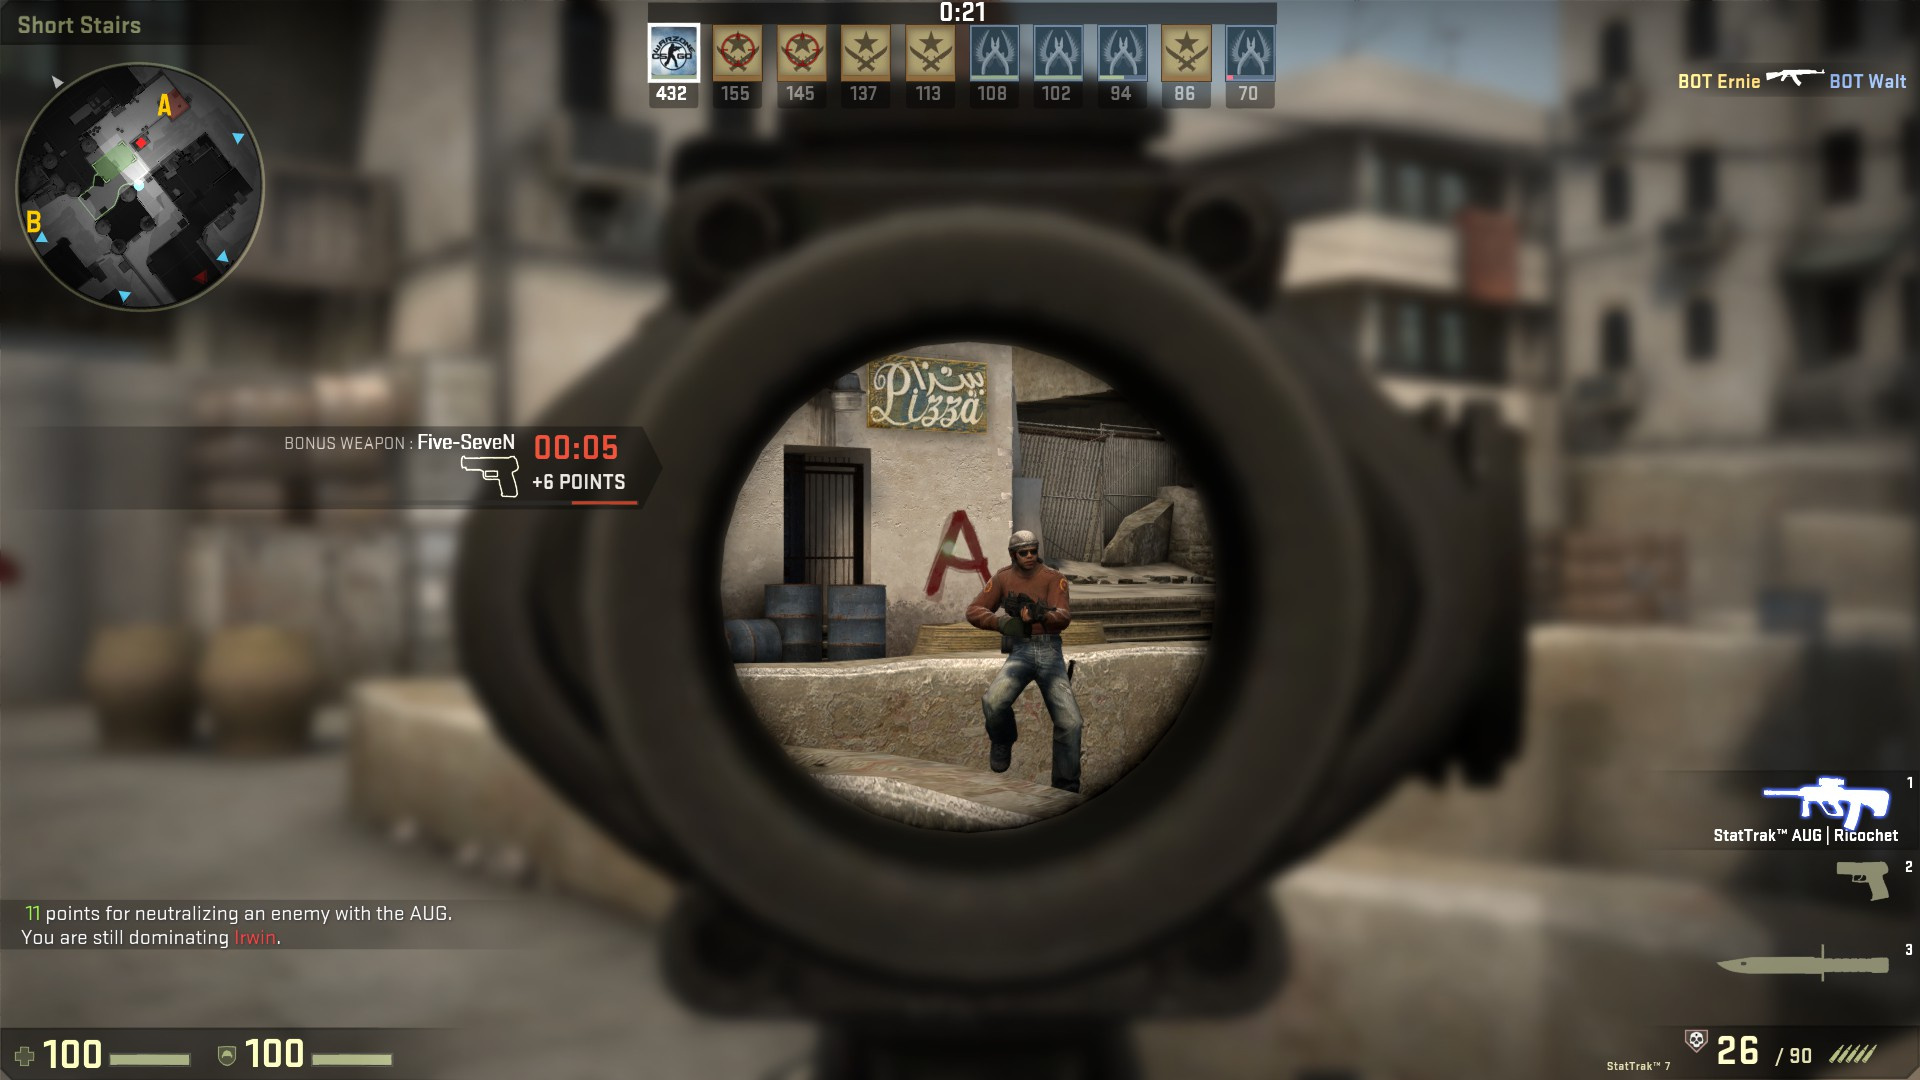t: (964, 527, 1095, 796)
th: (992, 522, 1062, 585)
